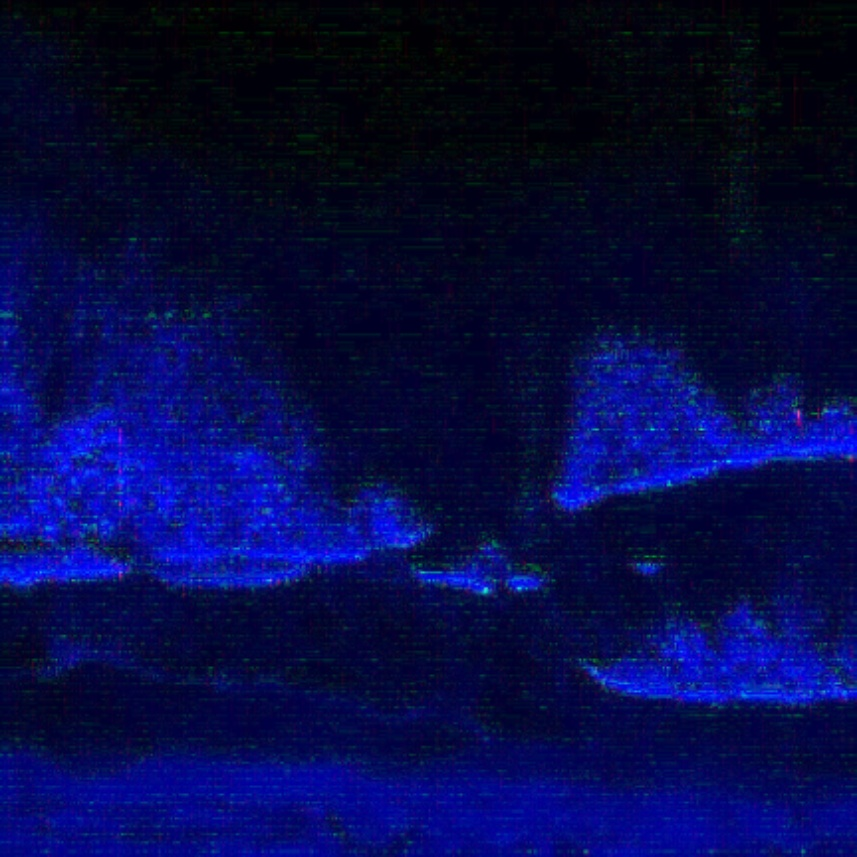rip_current: (225, 245, 639, 604)
